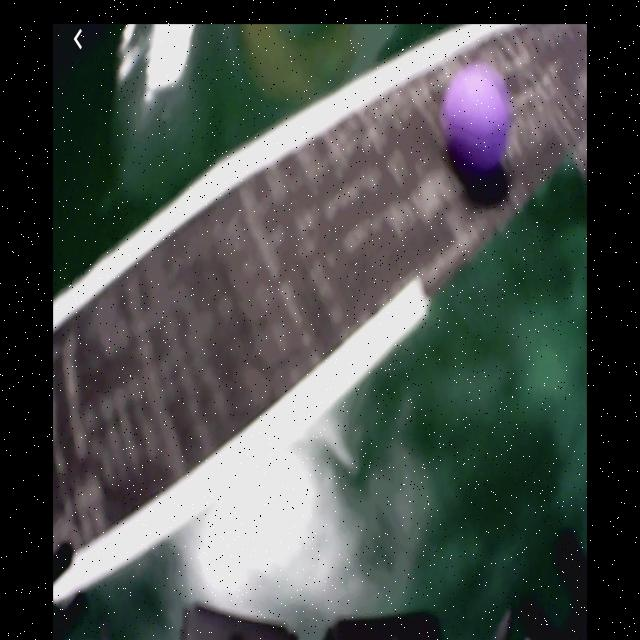ball: (441, 65, 509, 168)
